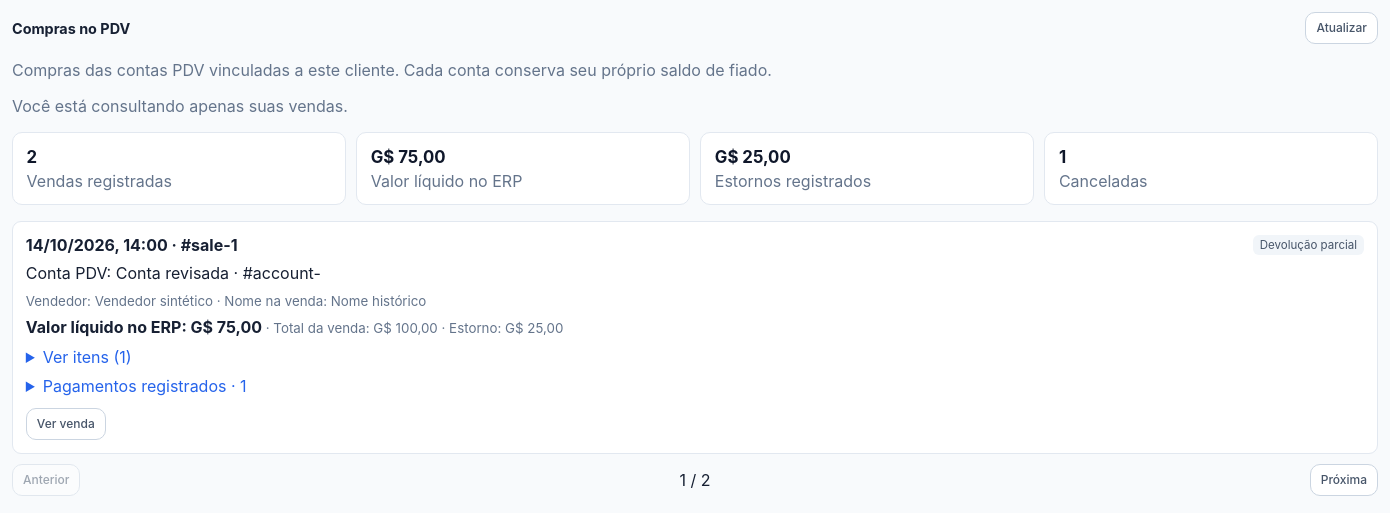
Customer POS history › shows financial scope, original items and independently paginated sales
Expected: the button "Anterior" is disabled, [12,464,80,496]
Click the button "Próxima" at (1344, 480), box [1310,464,1378,496]
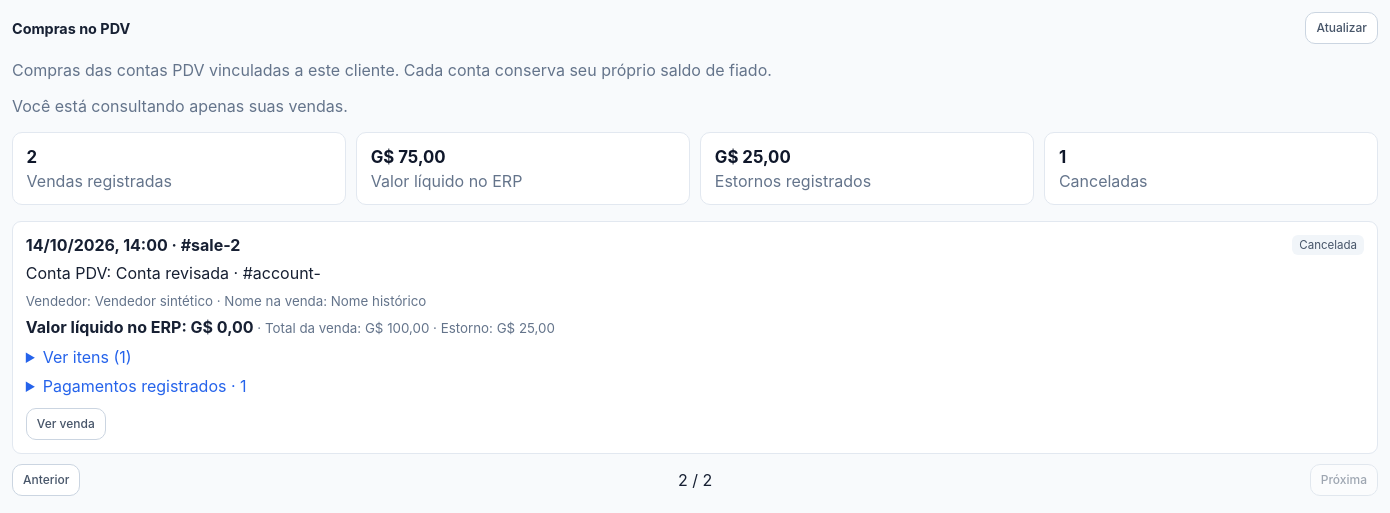
Result: the text "#sale-2" is shown at [26,235,240,255]
Result: the text "#sale-1" is gone
Result: the button "Próxima" is disabled at [1310,464,1378,496]
